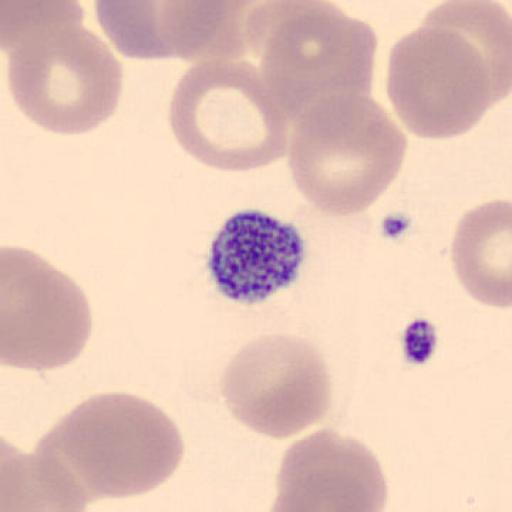Platelet: (203, 207, 310, 306)
RBC: (285, 92, 409, 217), (256, 2, 378, 128), (4, 15, 125, 137), (167, 58, 290, 173), (60, 390, 186, 500), (384, 24, 492, 142), (219, 332, 334, 440), (2, 245, 93, 371), (418, 0, 512, 107), (274, 427, 389, 512), (92, 0, 231, 62), (243, 0, 343, 82), (159, 0, 273, 63), (449, 198, 512, 310), (33, 414, 113, 501), (2, 441, 90, 512), (1, 0, 86, 72), (267, 475, 369, 512), (266, 481, 353, 512)
